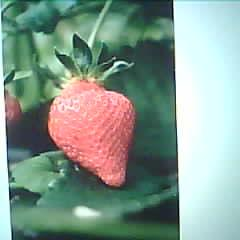straw-ripe: (48, 81, 136, 186)
